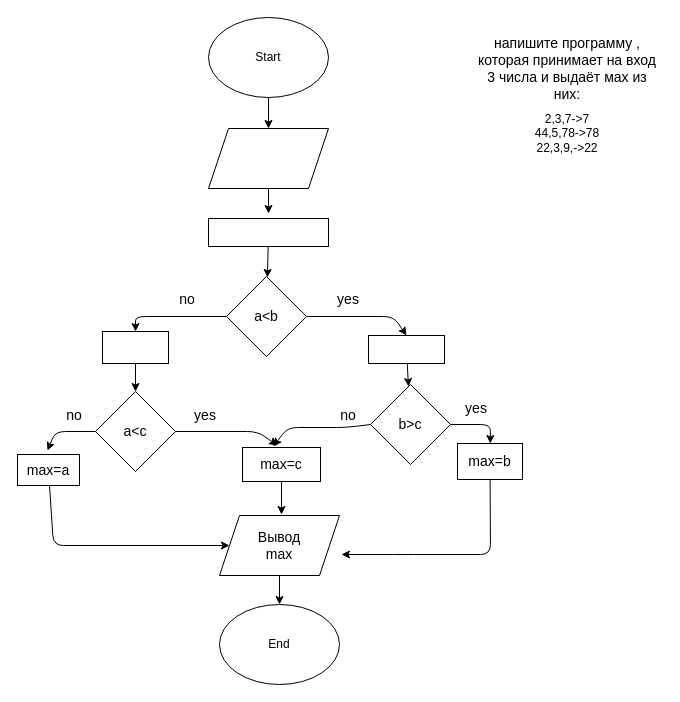
The diagram is 680 pixels wide and 702 high, and some of its shapes have lost their labels. Here are the shapes that lost their labels. From the top down, the box of each, then its label:
(208, 128, 328, 188): a=2 b=3. c=7
(208, 218, 328, 246): max = 0
(102, 330, 168, 364): max = a
(368, 334, 444, 364): max = b
